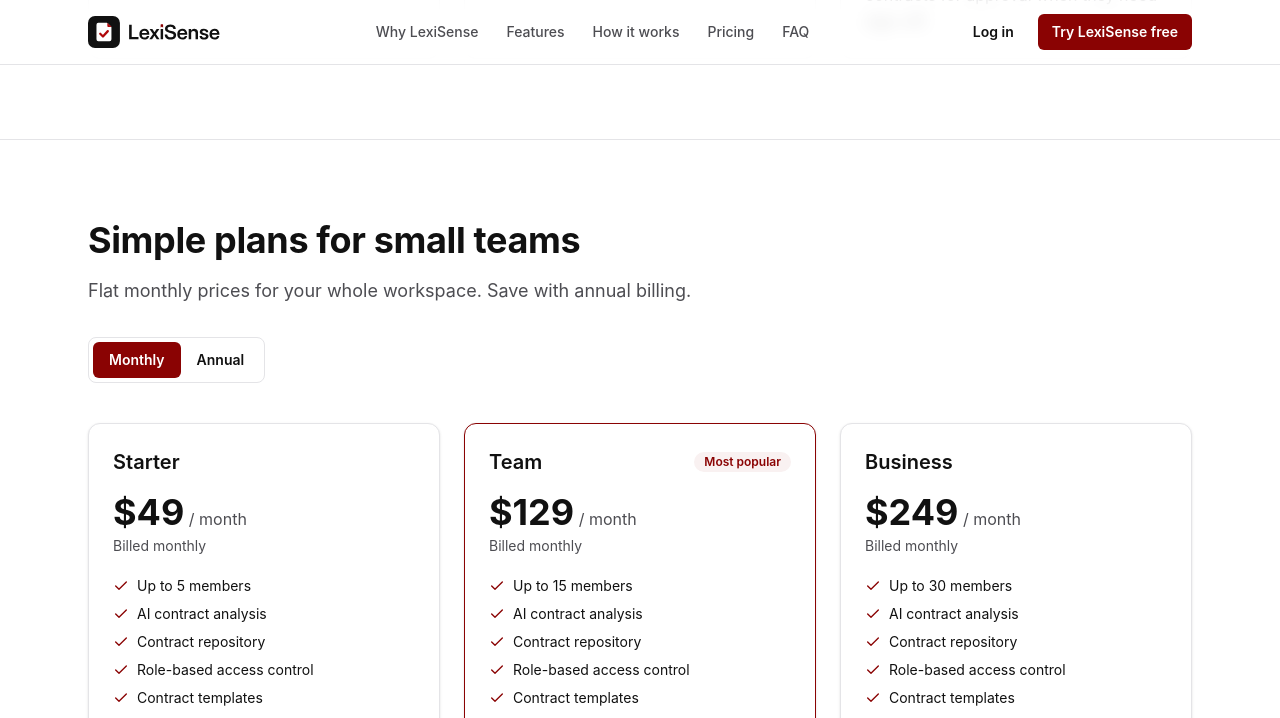
Test case: annual toggle switches to annual per-month prices
The image size is (1280, 718).
(page scrolled)
Click the button "Annual" at (220, 360), box x1=181 y1=342 x2=260 y2=378
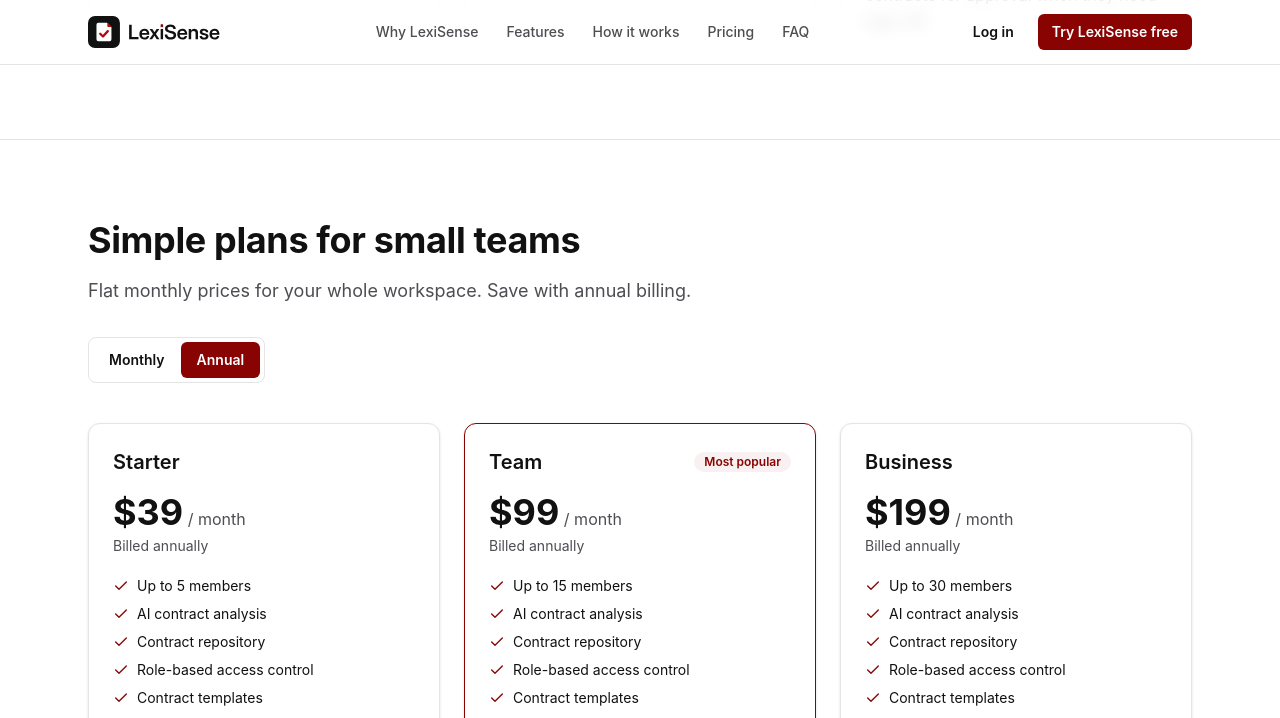
Check: the element that starts with "Simple plans for small teams" shows "Billed annually", box x1=113 y1=537 x2=208 y2=554
Click the button "Monthly" at (137, 360), box x1=93 y1=342 x2=181 y2=378
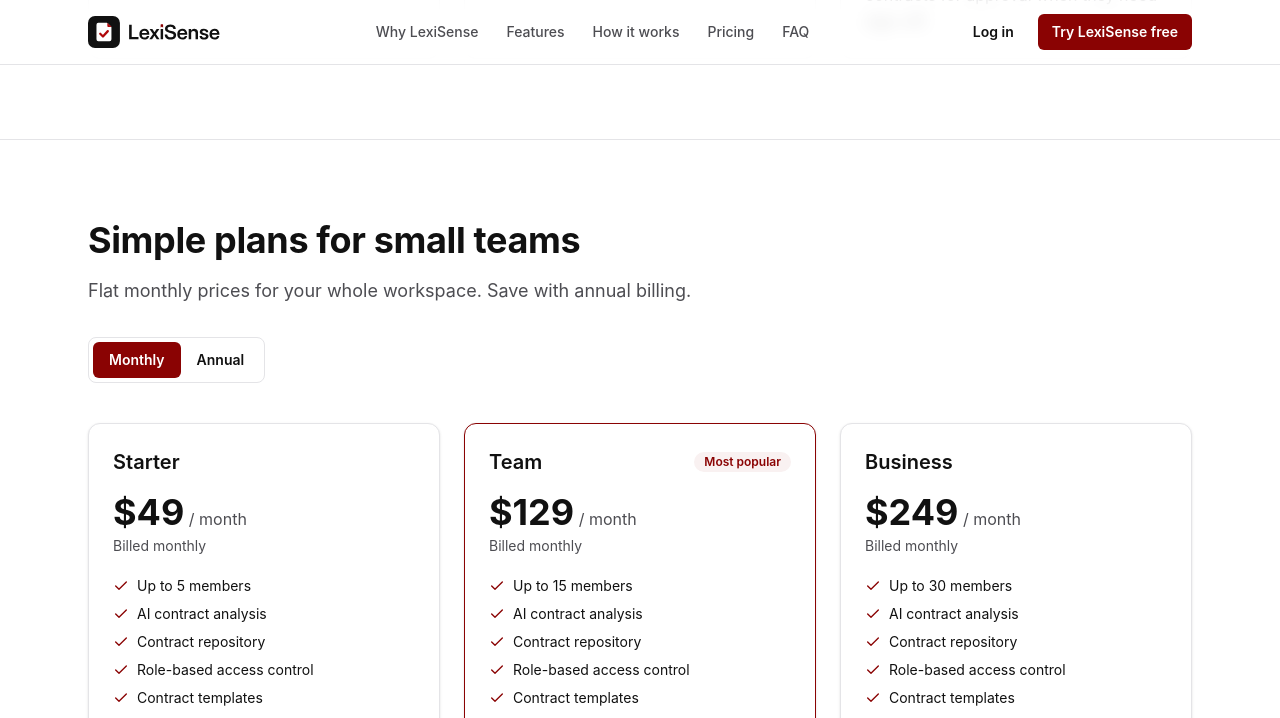
Check: the text with test id "landing-price-team" reads "$129", box x1=489 y1=490 x2=574 y2=534
